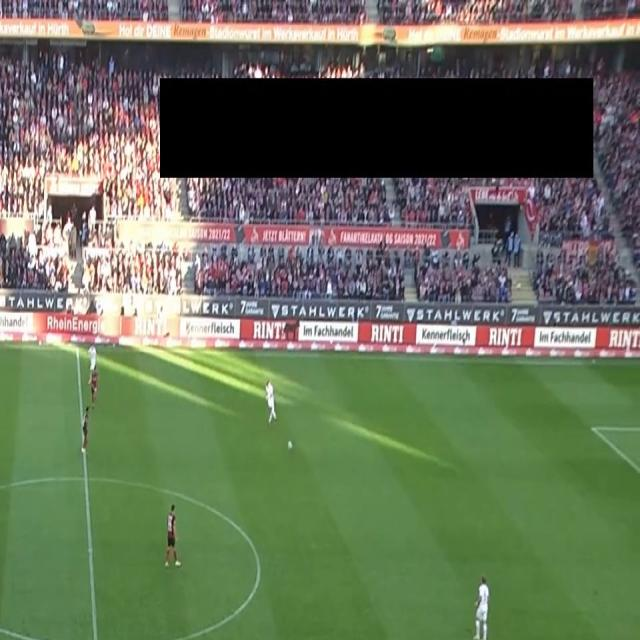ball: (287, 439, 293, 451)
